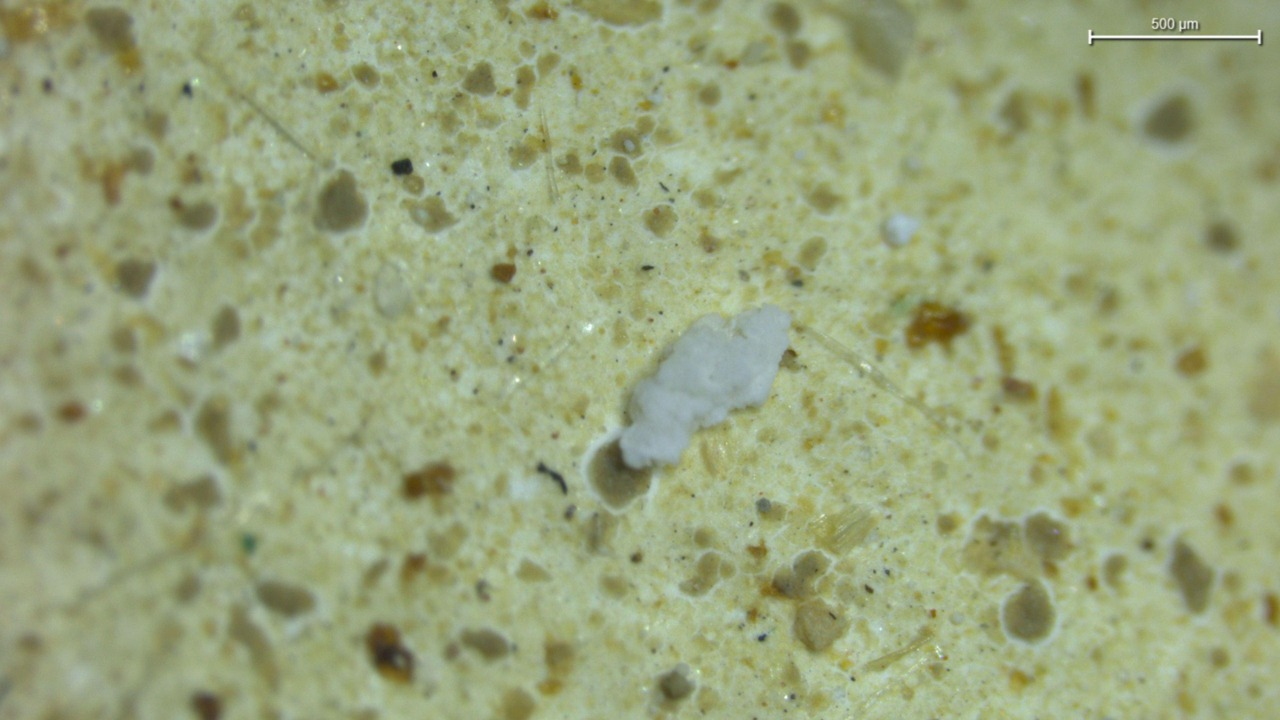microplastic_fragment: (619, 306, 791, 470)
